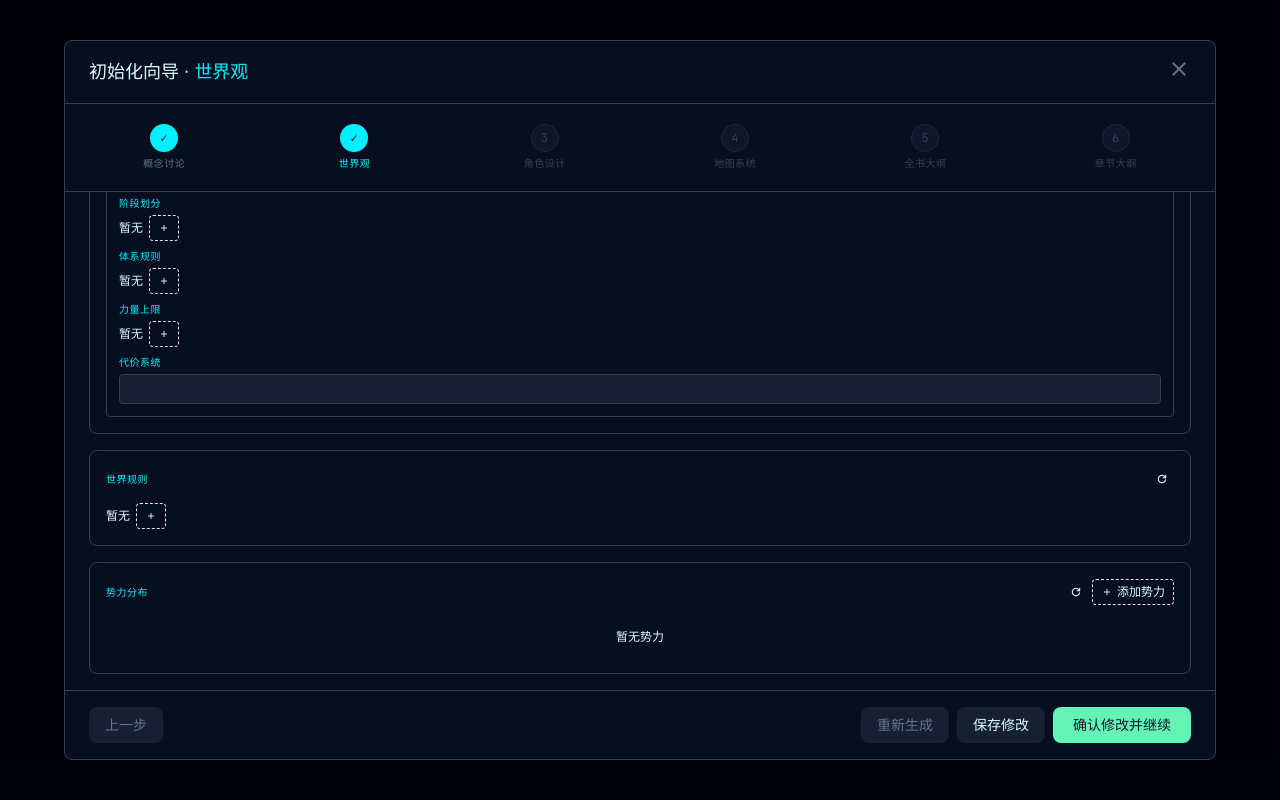
Test: WorldStep › '添加势力' appends an empty faction card with 4 editable fields
The width and height of the screenshot is (1280, 800).
(page scrolled)
Click the button with test id "world-faction-add" at (1133, 592), box x1=1092 y1=579 x2=1174 y2=605
(page scrolled)
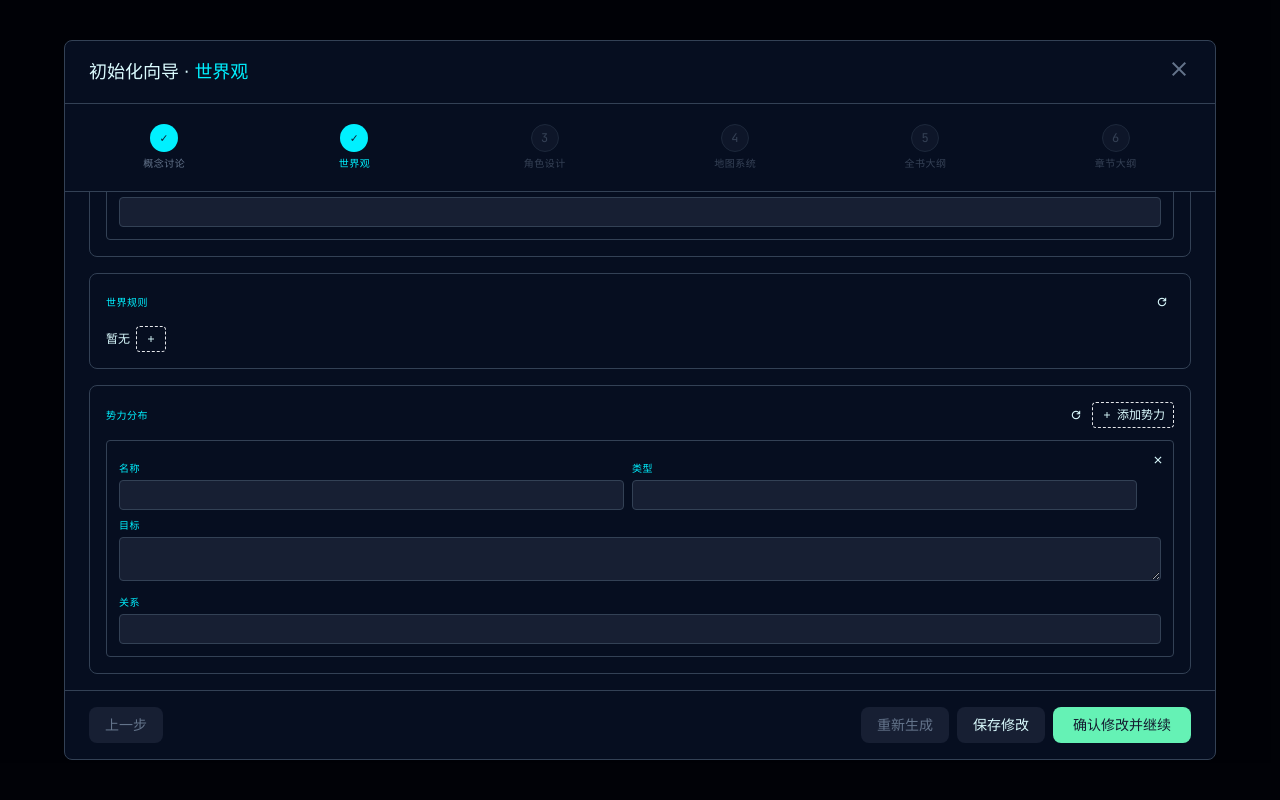
Check: the element with test id "world-faction-0" is shown, box x1=106 y1=440 x2=1174 y2=657
Check: the field with test id "world-faction-0-name" is shown, box x1=119 y1=480 x2=624 y2=510
Check: the field with test id "world-faction-0-type" is shown, box x1=632 y1=480 x2=1137 y2=510
